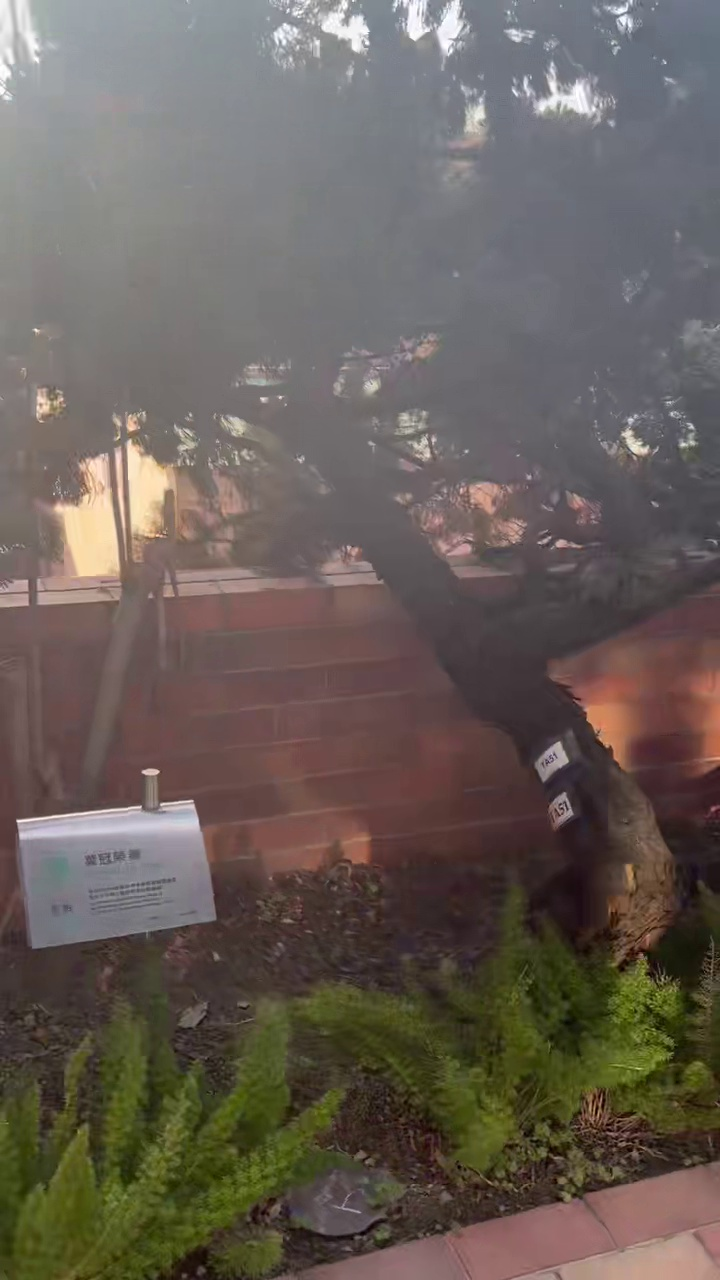Juniperus chinensis: (31, 0, 719, 957)
